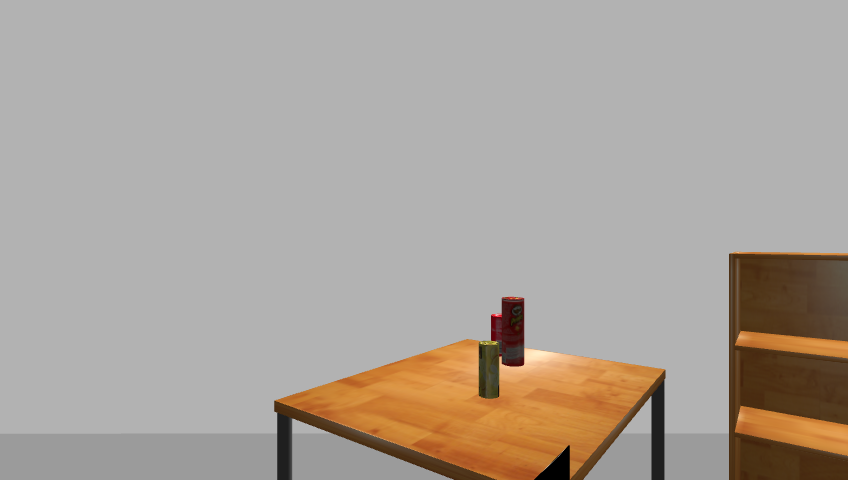aruco marker: (528, 446, 574, 480)
biscuits pack: (477, 340, 501, 399)
bookshelf: (723, 249, 848, 480)
coke can: (489, 313, 506, 362)
dinner table: (268, 340, 676, 480)
pringles can: (500, 296, 526, 368)
